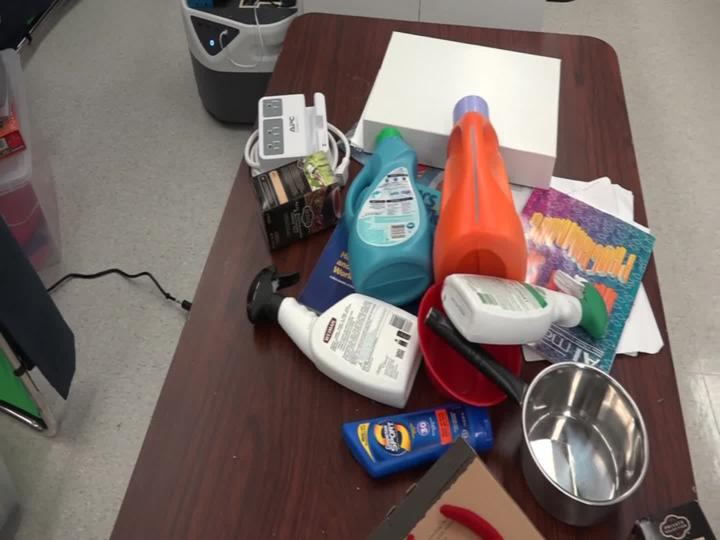downy: (336, 116, 441, 312)
